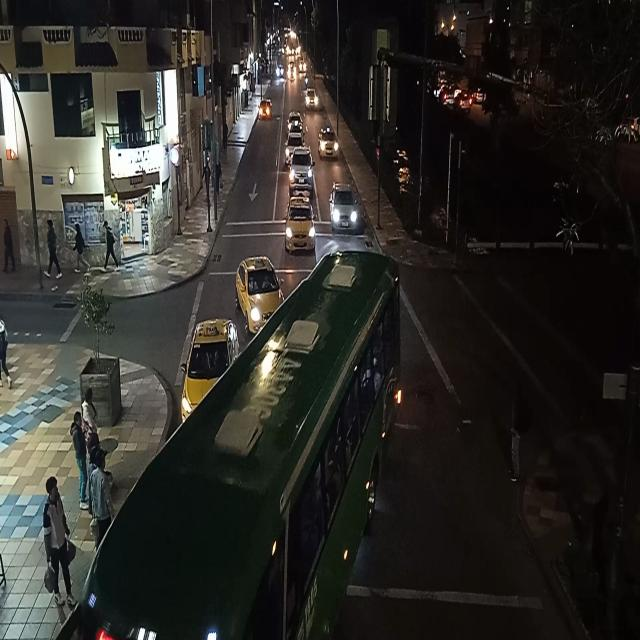BUS: (77, 257, 406, 640)
CMT: (291, 150, 313, 187)
SED: (239, 259, 286, 333), (286, 199, 313, 250)
